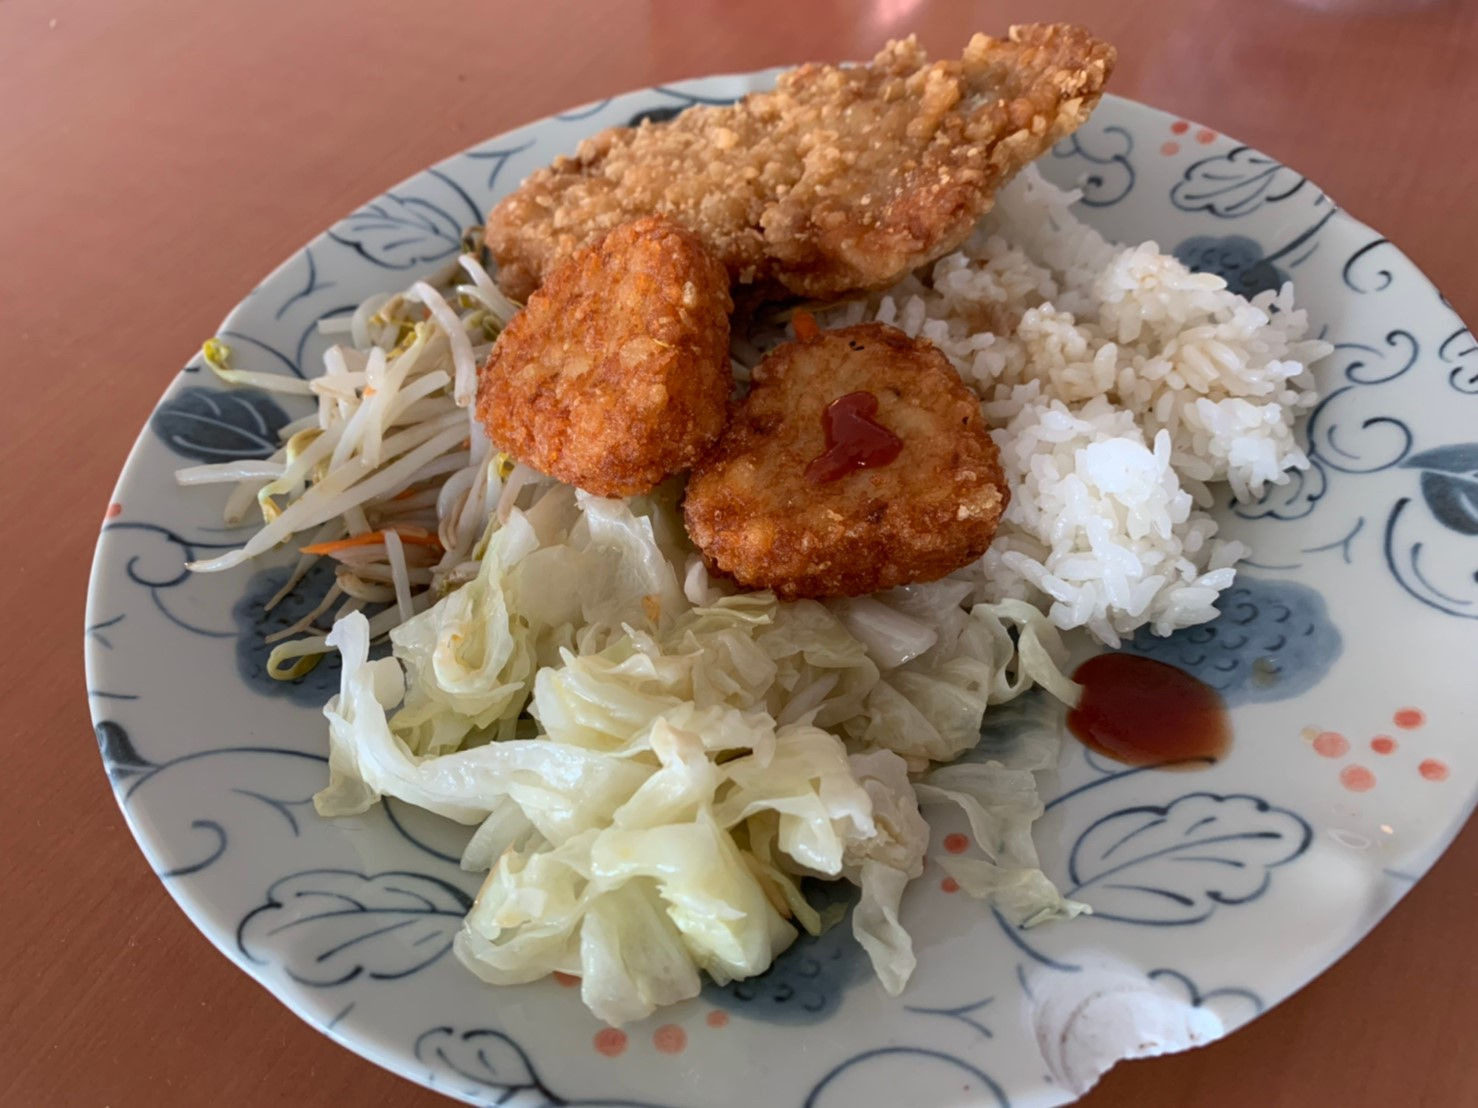chinese_cabbage: (367, 588, 948, 986)
fried_chicken: (511, 13, 1099, 261)
mung_bean_sprouts: (232, 275, 486, 594)
rice: (993, 244, 1279, 633)
triangle_hash_brown: (507, 239, 989, 584)
